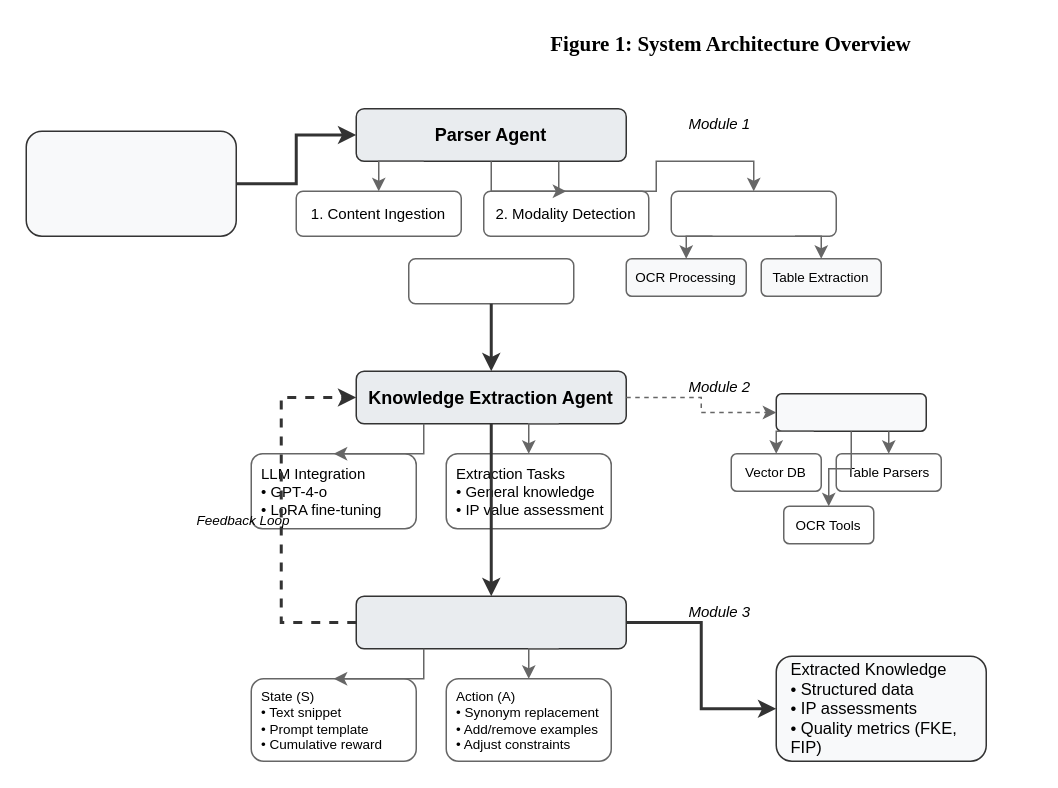
This 1058x788 diagram has some shape labels left out. The shapes that lost their labels are listed below. From the top down, each one's centre as x and y in pixels, then its label:
At (130,183): "Input Documents • PDFs, DOCX • HTML • Scanned Images".
At (753,213): "3. Specialized Handling".
At (490,280): "4. Structured Output (JSON)".
At (850,411): "External Tools".
At (490,622): "RL Prompt Optimizer".
